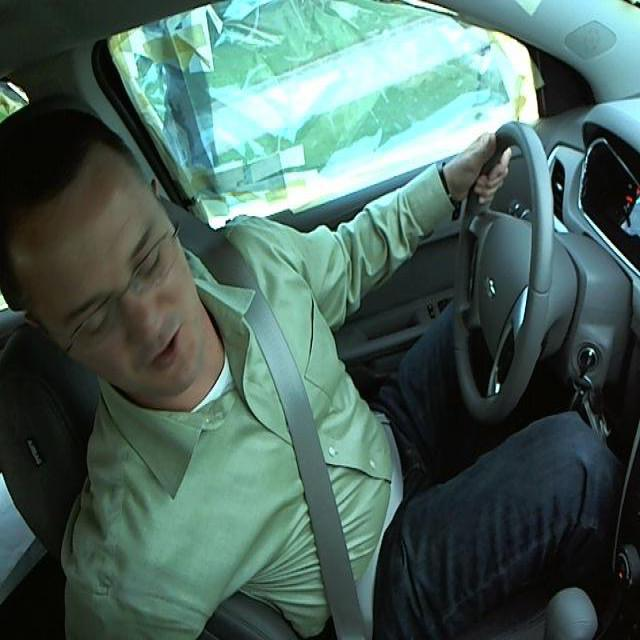seatbelt: (216, 262, 406, 622)
